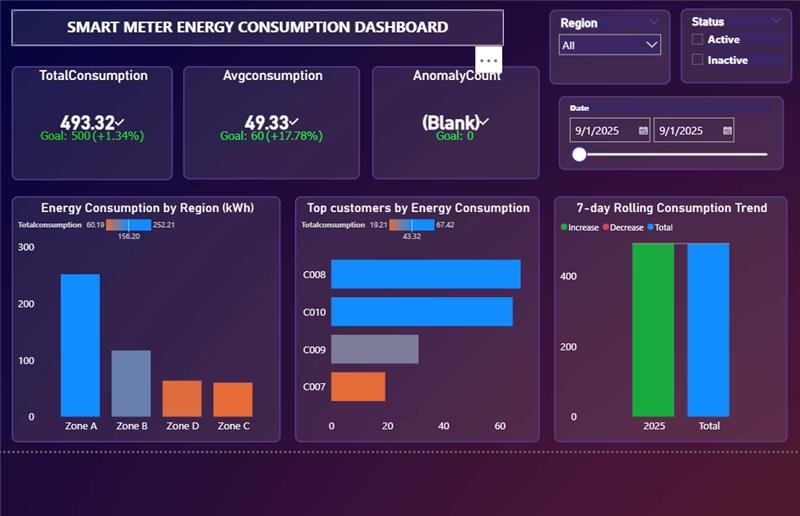

The dashboard page shown, as its layout file describes it:
{"tool":"powerbi","page":{"name":"Page 1","canvas":[1280,720],"ordinal":0},"visuals":[{"type":"columnChart","title":"Energy Consumption by Region (kWh)","fields":{"Category":["Clean_Smart_Meter_Data.Region"],"Y":["Clean_Smart_Meter_Data.Totalconsumption"]},"box":[18.4,315.2,429.5,392.7],"z":0},{"type":"waterfallChart","title":"7-day Rolling Consumption Trend","fields":{"Category":["Clean_Smart_Meter_Data.Date.Variation.Date Hierarchy.Year","Clean_Smart_Meter_Data.Date.Variation.Date Hierarchy.Quarter","Clean_Smart_Meter_Data.Date.Variation.Date Hierarchy.Month","Clean_Smart_Meter_Data.Date.Variation.Date Hierarchy.Day"],"Y":["Clean_Smart_Meter_Data.Rolling7"]},"box":[884.9,315.2,372.4,392.7],"z":1000},{"type":"slicer","fields":{"Values":["Clean_Smart_Meter_Data.Region"]},"box":[876.8,16.5,193,119.5],"z":2000},{"type":"kpi","title":"Avgconsumption ","fields":{"Indicator":["Clean_Smart_Meter_Data.Avgconsumption"],"TrendLine":["Clean_Smart_Meter_Data.Date"],"Goal":["Clean_Smart_Meter_Data.TargetAvg"]},"box":[293.1,106.9,282.1,180.7],"z":3000},{"type":"kpi","title":"AnomalyCount ","fields":{"Indicator":["Clean_Smart_Meter_Data.AnomalyCount"],"TrendLine":["Clean_Smart_Meter_Data.Date"],"Goal":["Clean_Smart_Meter_Data.Targetana"]},"box":[593.6,106.9,267.3,180.7],"z":4000},{"type":"slicer","fields":{"Values":["Clean_Smart_Meter_Data.Status"]},"box":[1086.4,14.7,178.3,119.5],"z":5000},{"type":"slicer","fields":{"Values":["Clean_Smart_Meter_Data.Date"]},"box":[892.3,154.9,359.5,118],"z":6000},{"type":"barChart","title":"Top customers by Energy Consumption","fields":{"Category":["Clean_Smart_Meter_Data.Customer_ID"],"Y":["Clean_Smart_Meter_Data.Totalconsumption"]},"box":[470.1,315.2,390.8,392.7],"z":7000},{"type":"textbox","box":[18.4,16.6,785.3,57.1],"z":8000},{"type":"kpi","title":"TotalConsumption","fields":{"Indicator":["Clean_Smart_Meter_Data.Totalconsumption"],"TrendLine":["Clean_Smart_Meter_Data.Date"],"Goal":["Clean_Smart_Meter_Data.Target"]},"box":[18.4,106.6,257.3,182],"z":9000}]}

Visuals, with their boxes on the page's 1280x720 design canvas (x1, y1, x2, y2). These are canvas units, not pixel positions in the 800x516 screenshot, which may show the page scaled, cropped or inside an application window:
"Energy Consumption by Region (kWh)" columnChart: <bbox>18, 315, 448, 708</bbox>
"7-day Rolling Consumption Trend" waterfallChart: <bbox>885, 315, 1257, 708</bbox>
slicer - Clean_Smart_Meter_Data.Region: <bbox>877, 16, 1070, 136</bbox>
"Avgconsumption " kpi: <bbox>293, 107, 575, 288</bbox>
"AnomalyCount " kpi: <bbox>594, 107, 861, 288</bbox>
slicer - Clean_Smart_Meter_Data.Status: <bbox>1086, 15, 1265, 134</bbox>
slicer - Clean_Smart_Meter_Data.Date: <bbox>892, 155, 1252, 273</bbox>
"Top customers by Energy Consumption" barChart: <bbox>470, 315, 861, 708</bbox>
textbox: <bbox>18, 17, 804, 74</bbox>
"TotalConsumption" kpi: <bbox>18, 107, 276, 289</bbox>
